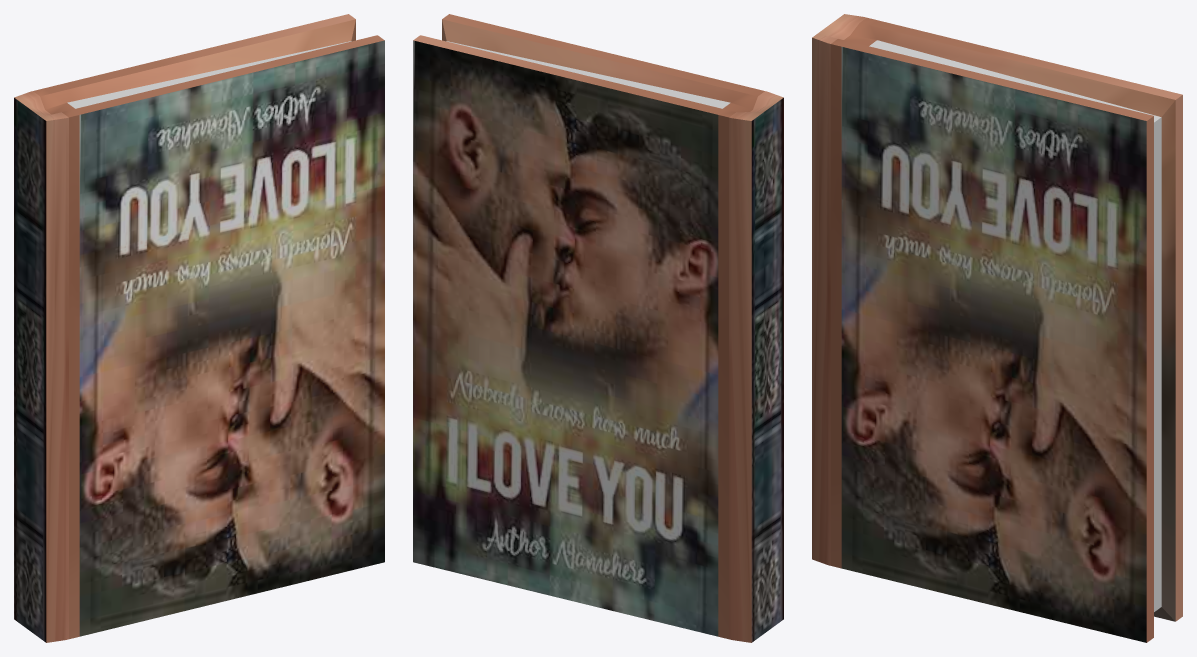
Rendered from book03.fbx.
3 views of the same model, side by side, from view 1: azimuth 30°, elevation 25°; view 2: azimuth 150°, elevation 25°; view 3: azimuth 330°, elevation 25° (orthographic).
Visible parts, largest first — view 1: book.003; view 2: book.003; view 3: book.003.
Part boxes in pixels (bbox=[...]): book.003: bbox=[14, 14, 384, 642]; book.003: bbox=[413, 14, 783, 642]; book.003: bbox=[812, 14, 1182, 642].
Size of the model in its own units: 61.06 by 90.47 by 11.34.
